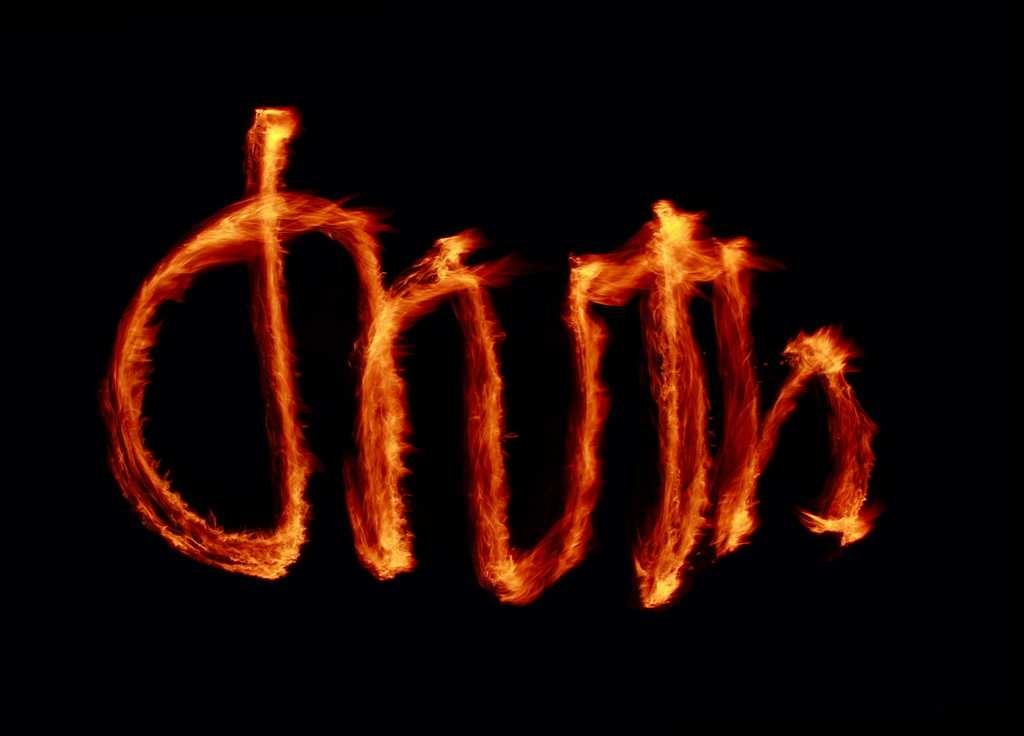fire: (652, 310, 693, 562), (368, 375, 403, 573), (473, 383, 505, 580), (580, 253, 738, 287), (210, 203, 322, 240), (210, 533, 295, 577), (790, 333, 845, 380), (403, 262, 473, 293), (252, 123, 283, 192)
